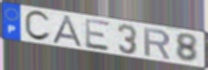3: (117, 22, 139, 56)
8: (174, 32, 200, 65)
A: (51, 14, 87, 49)
C: (23, 10, 53, 43)
E: (84, 17, 112, 53)
R: (142, 26, 172, 61)
